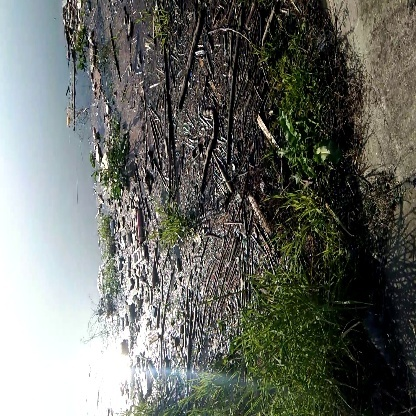branch: (216, 16, 251, 160)
